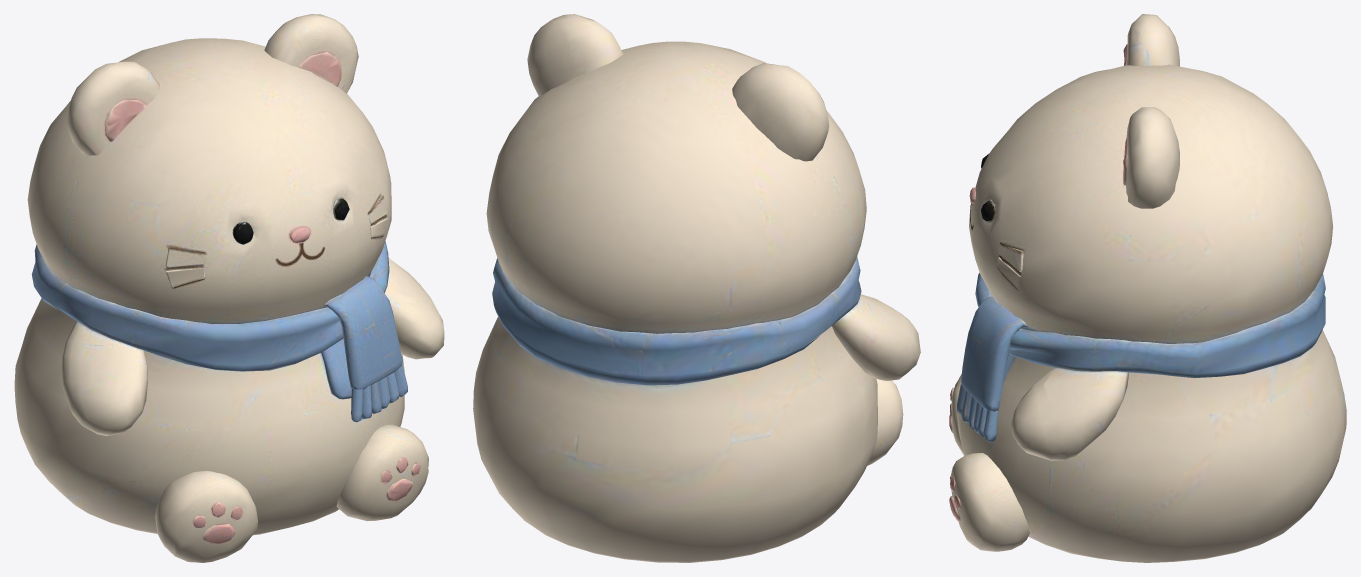
The model's file is skyways-con-plush.glb.
The picture shows the model from 3 angles, left to right: view 1: azimuth 30°, elevation 25°; view 2: azimuth 150°, elevation 25°; view 3: azimuth 270°, elevation 25°; orthographic projection. The views are drawn at different scales.
Parts seen in each view (by area): view 1: skyways-con-plush; view 2: skyways-con-plush; view 3: skyways-con-plush.
Part boxes in pixels (left/top/right/bottom): skyways-con-plush: left=14, top=14, right=444, bottom=562; skyways-con-plush: left=473, top=14, right=920, bottom=562; skyways-con-plush: left=949, top=14, right=1346, bottom=562.
Bounding box in the file's own units: 0.2978 × 0.34 × 0.2823.
Materials: 1 (1 with a texture image).
